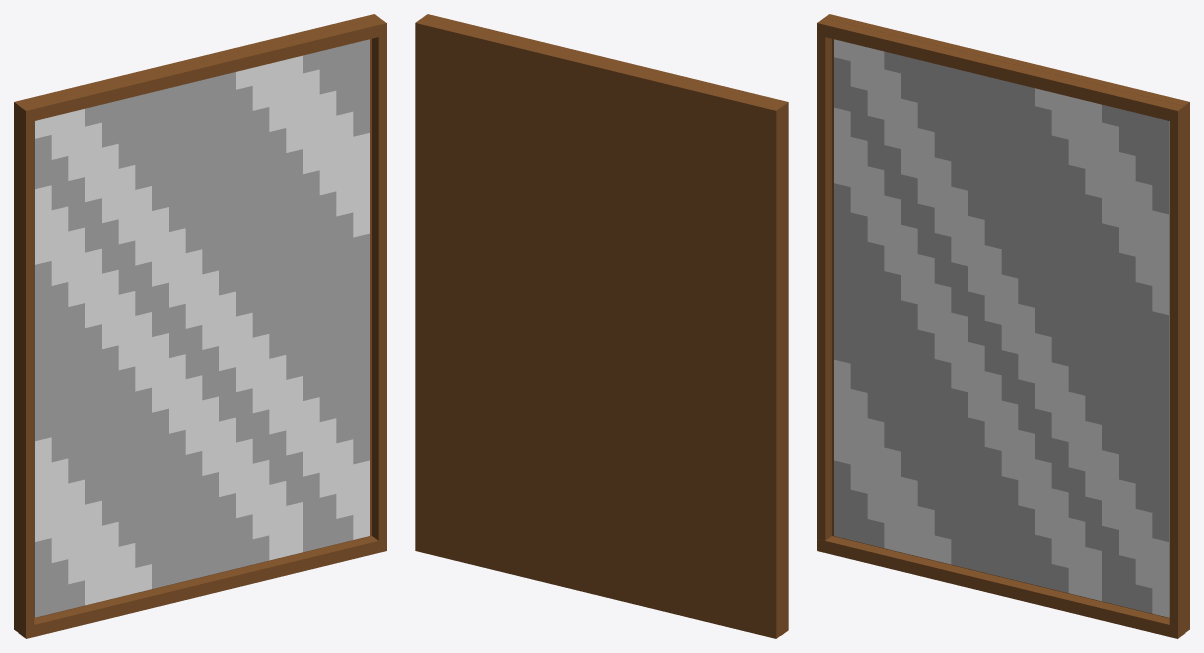
Rendered from mirror.obj.
The picture shows the model from 3 angles, left to right: view 1: azimuth 30°, elevation 25°; view 2: azimuth 150°, elevation 25°; view 3: azimuth 330°, elevation 25°; orthographic projection.
Visible parts, largest first — view 1: polySurface17; view 2: polySurface17; view 3: polySurface17.
Boxes of the visible parts, <box> form: polySurface17: <box>14,14,386,638</box>; polySurface17: <box>415,14,788,638</box>; polySurface17: <box>817,14,1189,638</box>.
Bounding box in the file's own units: 0.5742 × 0.8029 × 0.0339.
3 materials, 3 textured.
